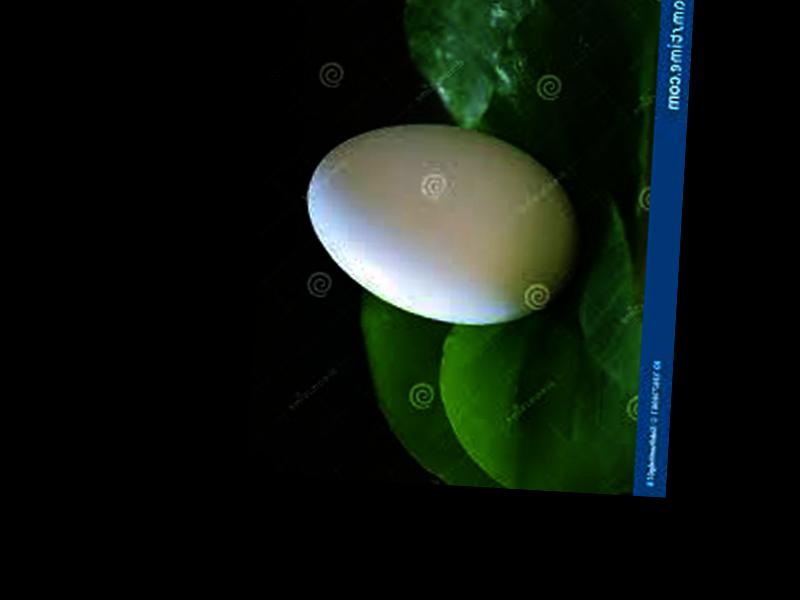Eggs: (299, 116, 585, 331)
